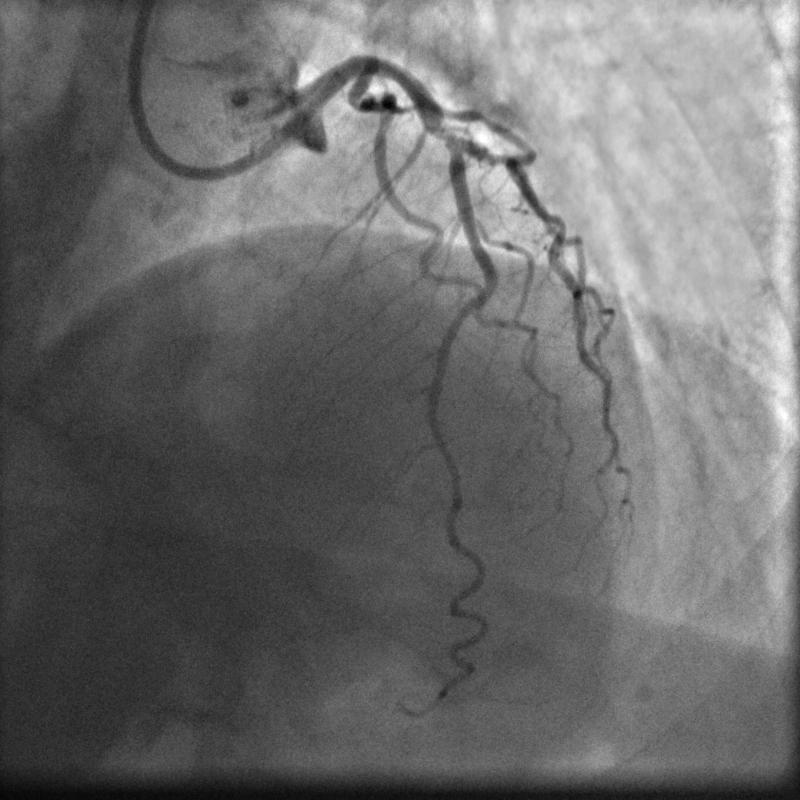Stenosis: (419, 121, 468, 145)
